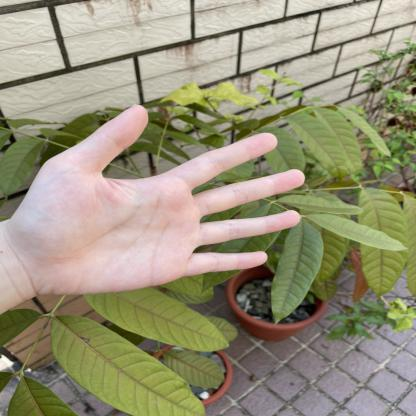bare_hand: (0, 99, 316, 322)
